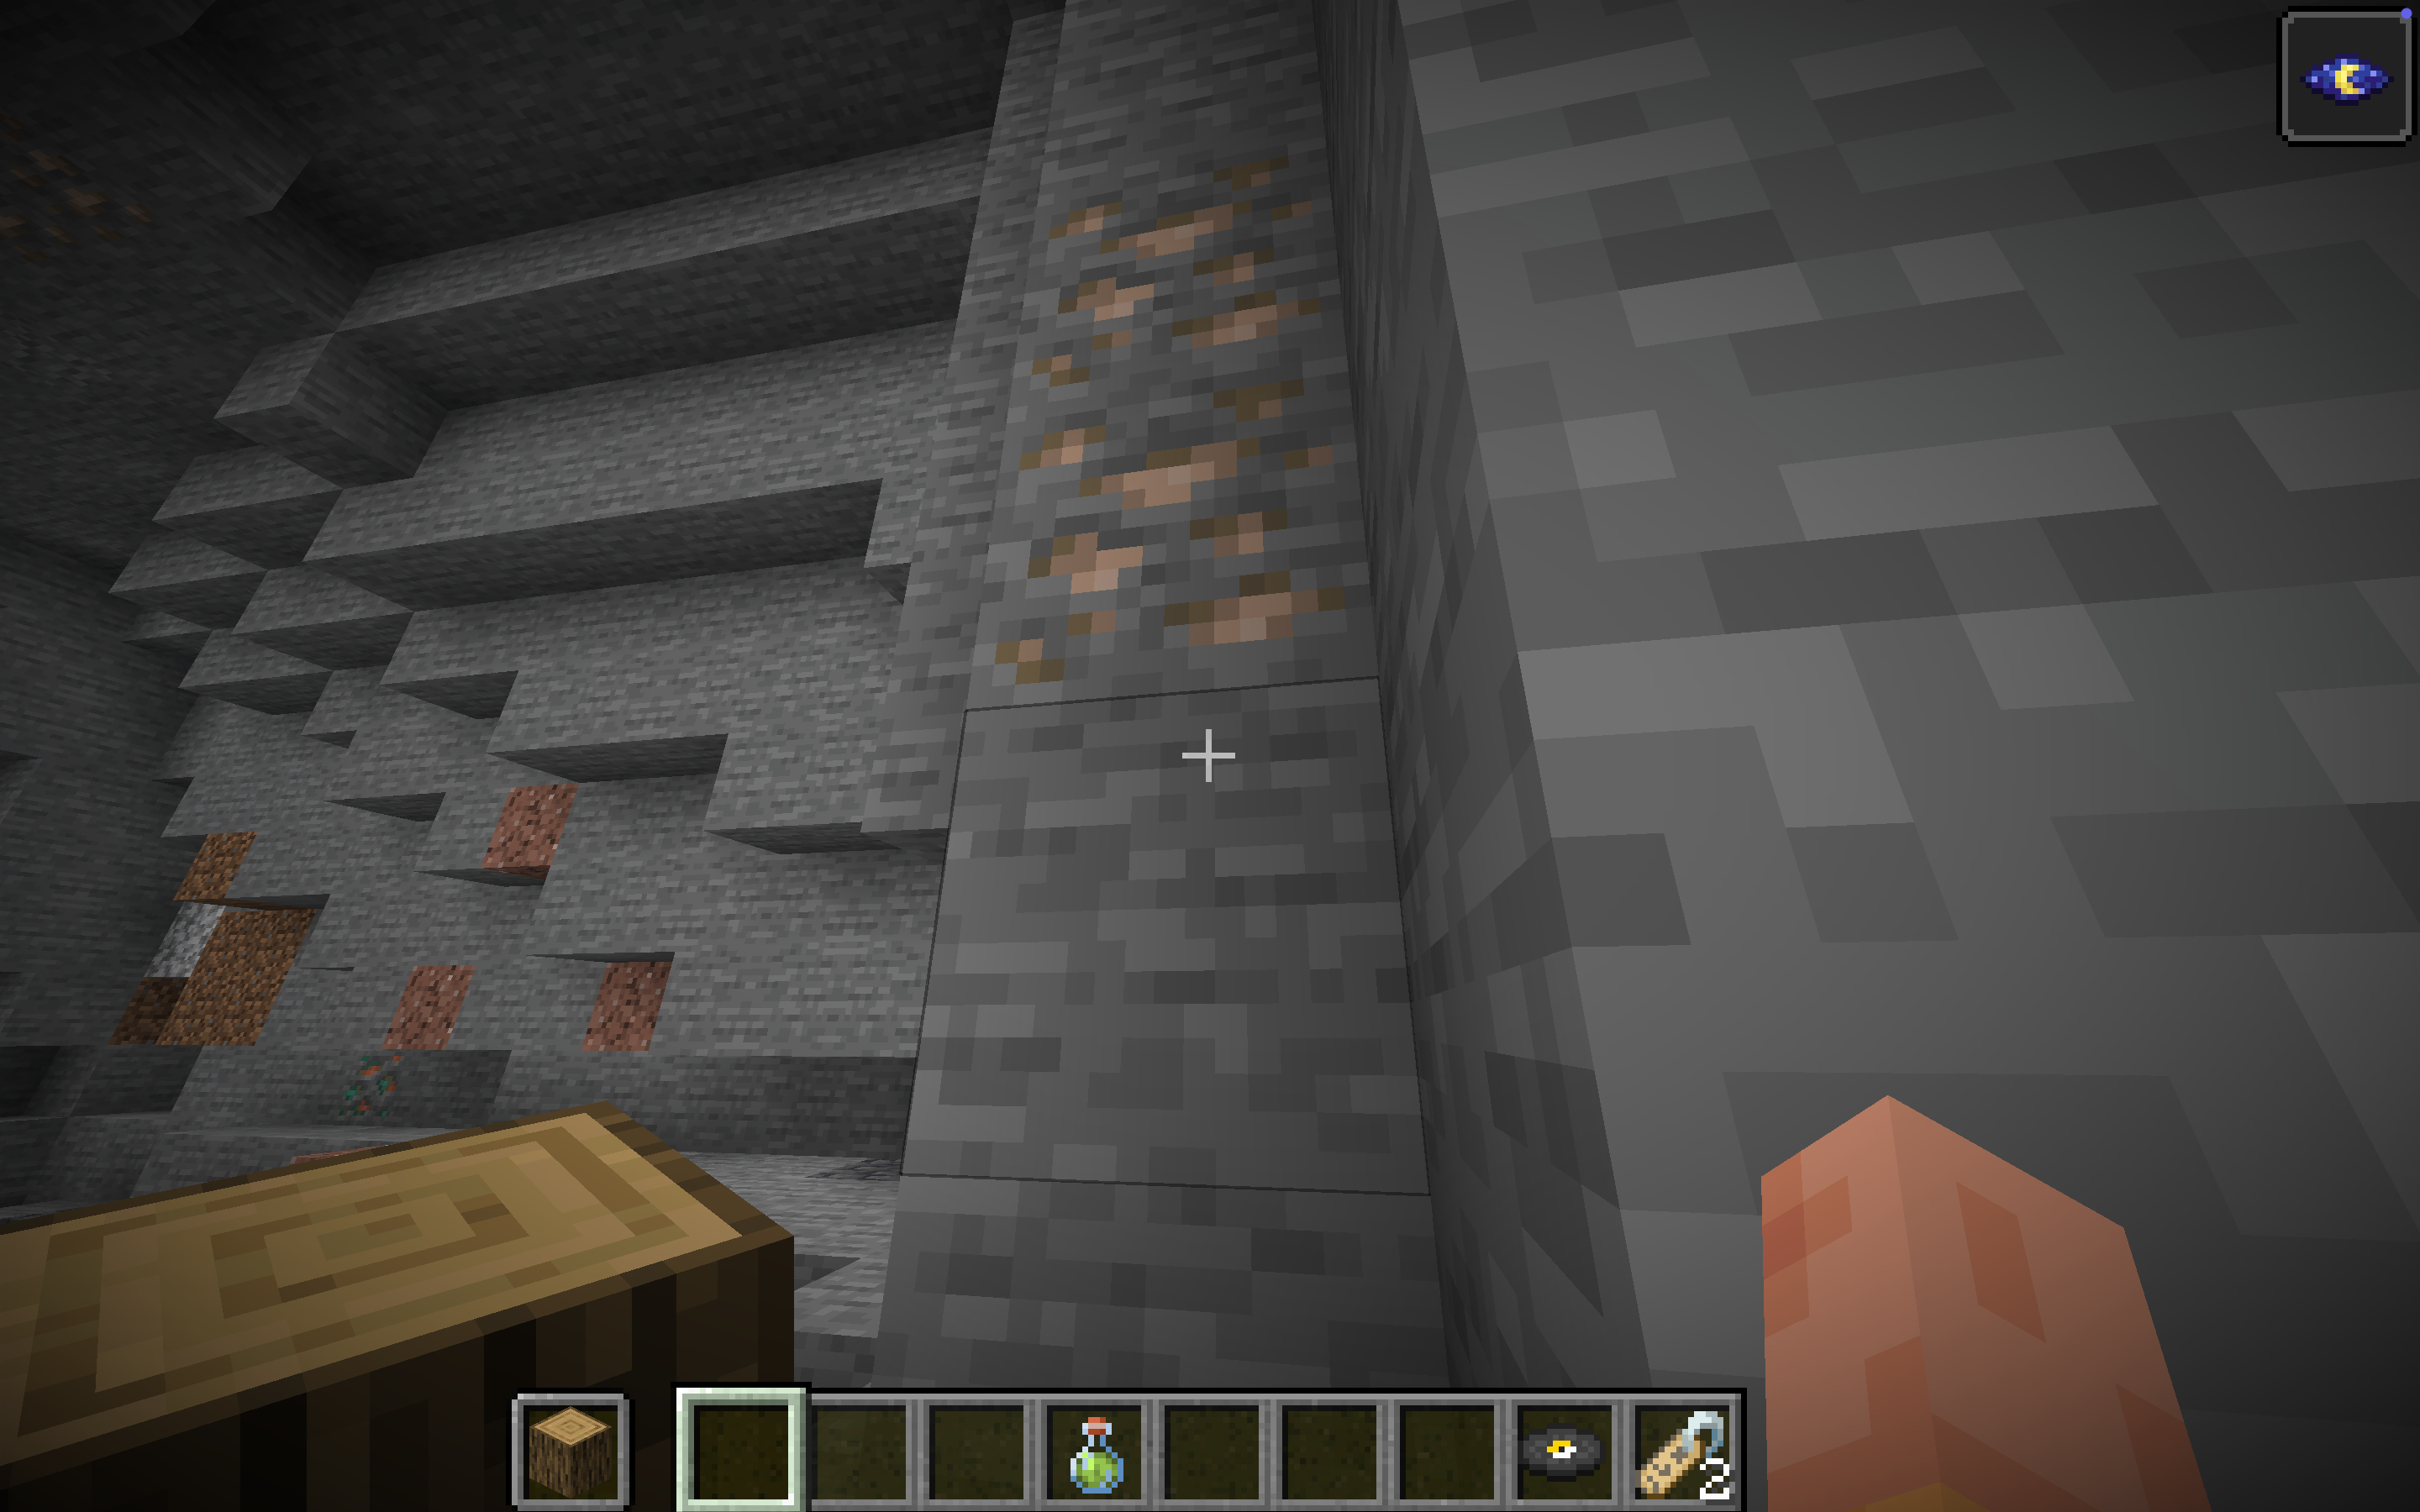iron: (354, 103, 2056, 899)
